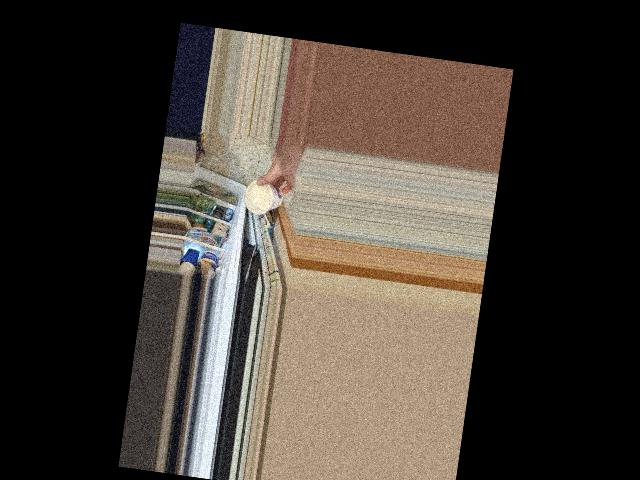cotage: (244, 180, 284, 217)
